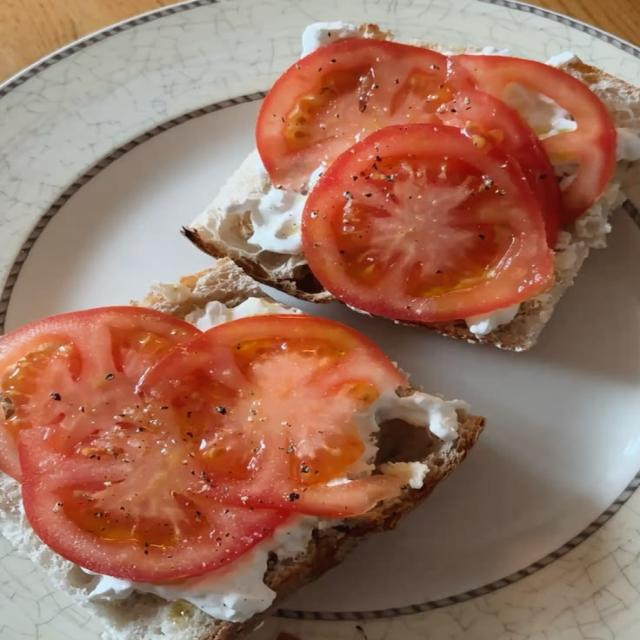sliced_bread: (0, 473, 269, 639), (264, 407, 483, 608), (423, 159, 639, 351), (185, 152, 332, 303), (560, 58, 639, 143), (143, 261, 257, 317)
sliced_tomato: (140, 315, 406, 516), (303, 125, 553, 322), (19, 410, 286, 582), (0, 307, 200, 479), (256, 39, 472, 189), (451, 55, 616, 223), (439, 89, 561, 247)
